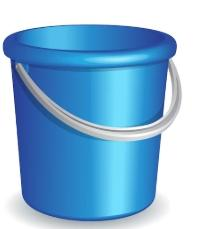SEAU: (5, 1, 205, 224)
